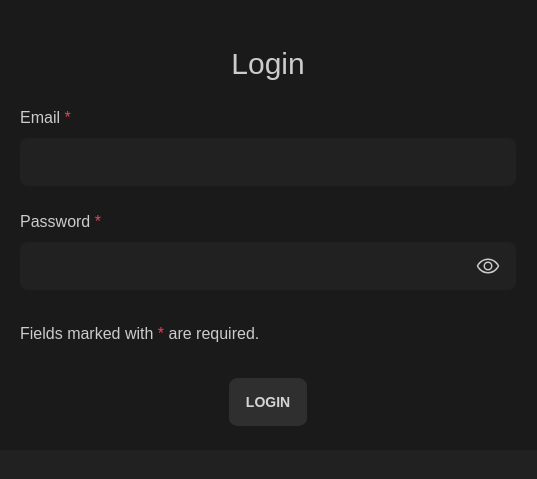
Test: Login › errors display when fields are submitted with no values
What coordinates should you click on to do the following:
click the button "Login"
I would click on:
 (268, 402)
Its box is top-left (229, 378), bottom-right (307, 426).
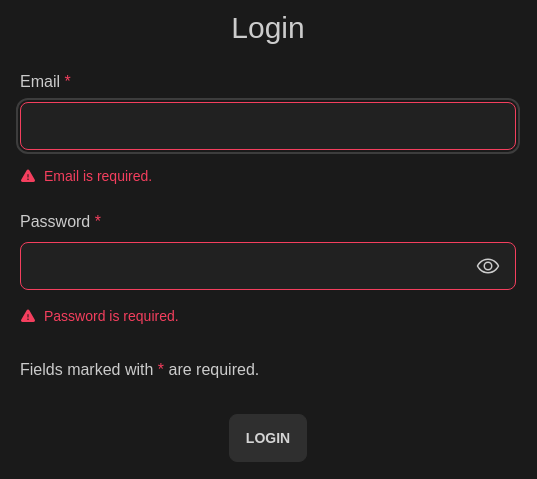
Check: the number of messages is 2, box top-left (20, 168), bottom-right (152, 184); top-left (20, 308), bottom-right (179, 324)
